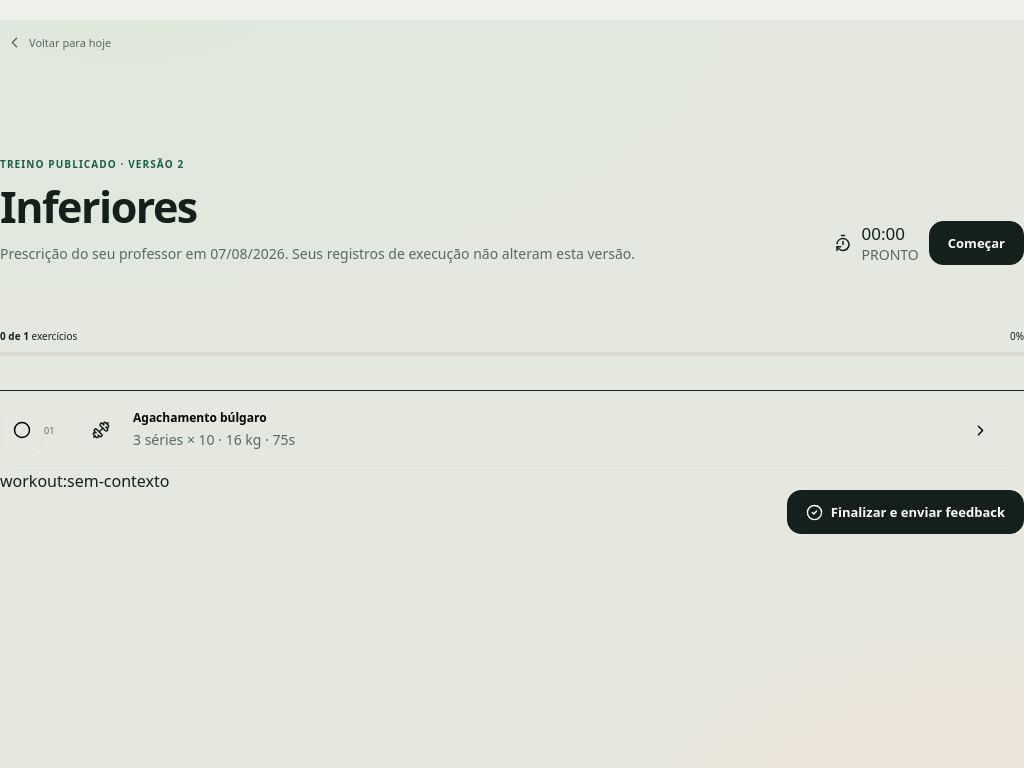
Test case: authenticated student workout › opens a transient exercise-scoped pain report without browser persistence
Click the button "Agachamento búlgaro": (101, 430) 76,391 -> 1023,469
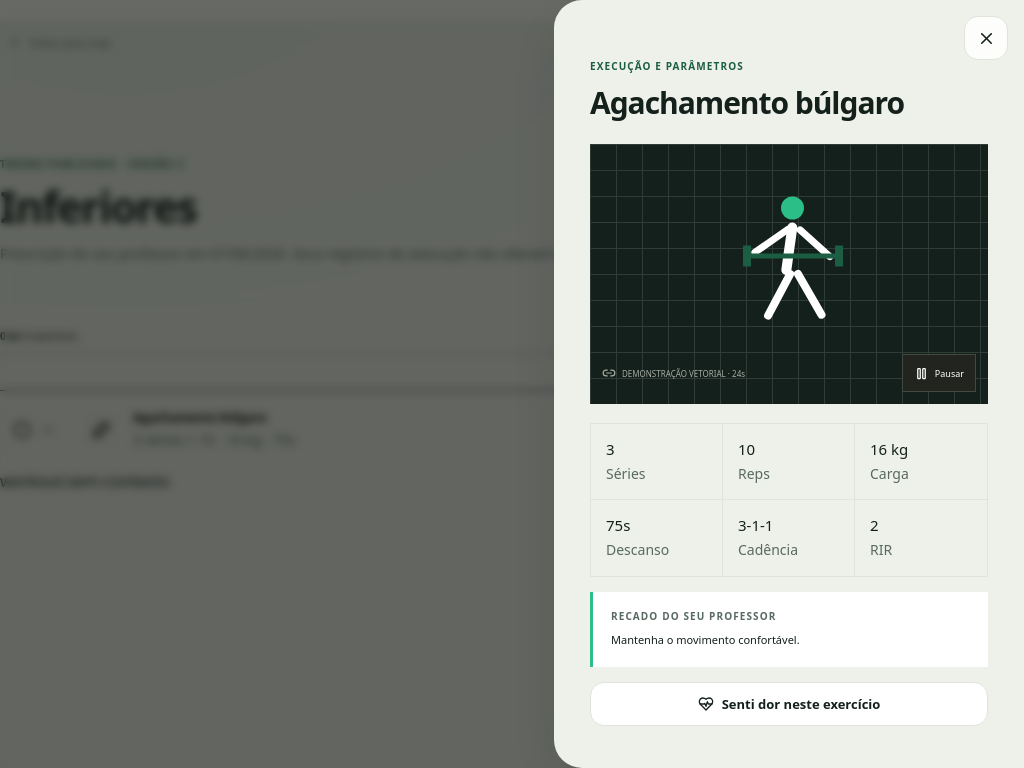
Click the button "Senti dor neste exercício": (789, 704) 590,682 -> 988,726
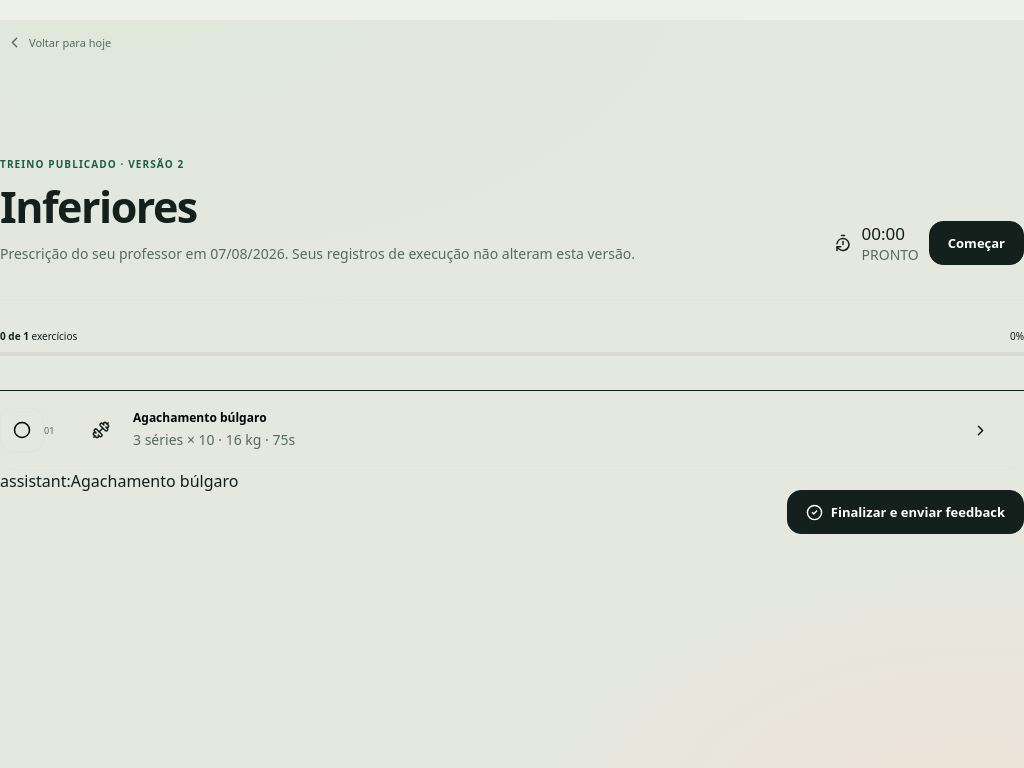
Result: the text "assistant:Agachamento búlgaro" is shown at 0,470 -> 238,492
